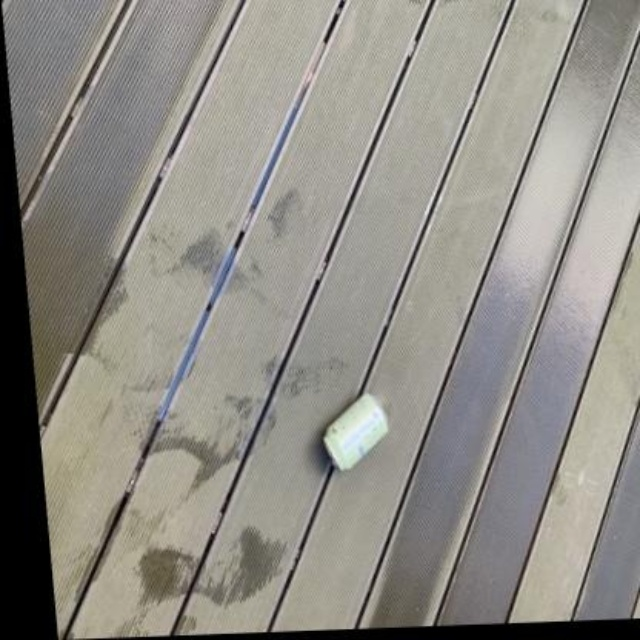trash: (323, 394, 388, 469)
